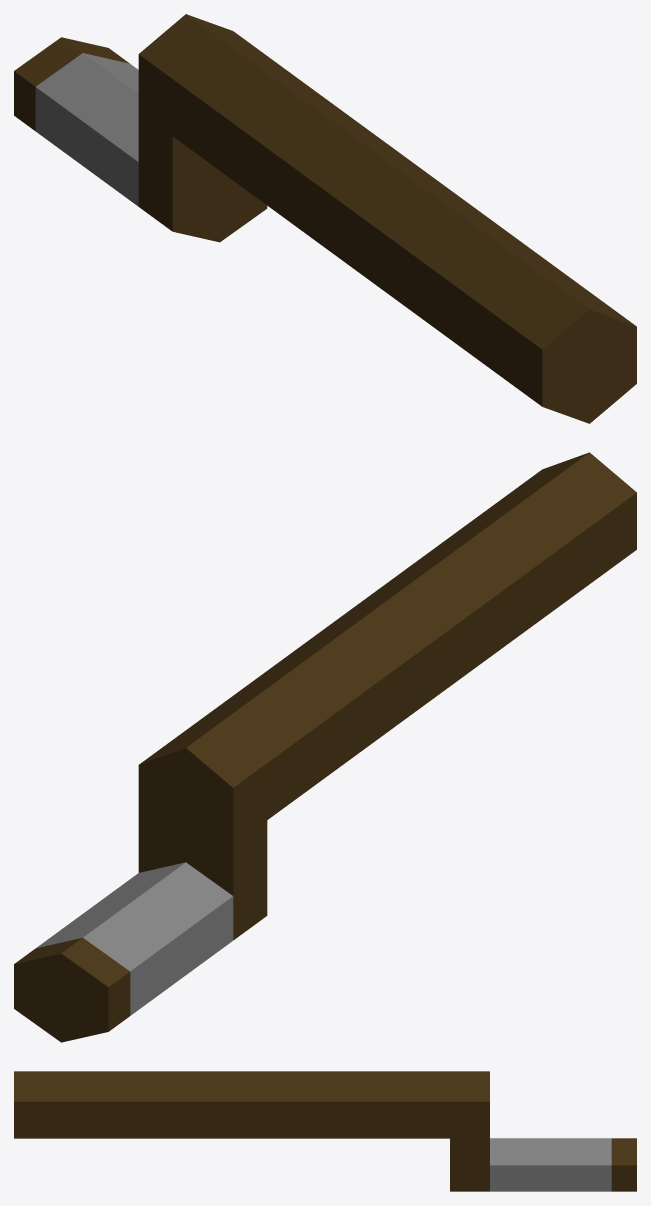
The model's file is crank.fbx.
3 views of the same model, one above another, from view 1: azimuth 30°, elevation 25°; view 2: azimuth 150°, elevation 25°; view 3: azimuth 270°, elevation 25° (orthographic). The views are drawn at different scales.
Visible parts, largest first — view 1: crank; view 2: crank; view 3: crank.
Boxes of the visible parts, x1,y1,x2,y2 form: crank: [14, 14, 636, 423]; crank: [14, 452, 636, 1042]; crank: [14, 1071, 636, 1191].
Bounding box in the file's own units: 10.39 × 21.36 × 100.
